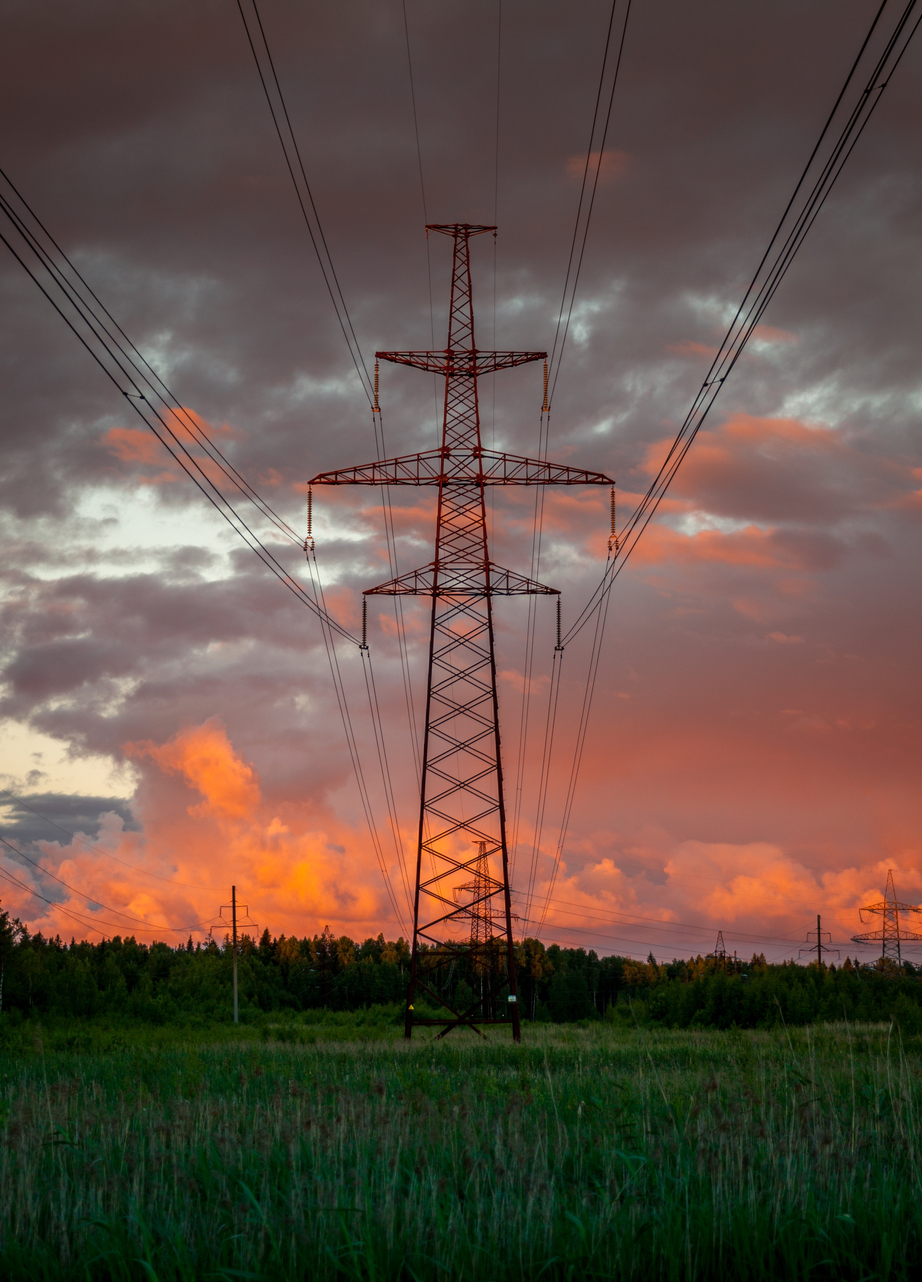insulator: (303, 488, 317, 554), (608, 487, 621, 554), (370, 355, 383, 414), (553, 598, 566, 651), (357, 597, 370, 650), (540, 360, 552, 413)
